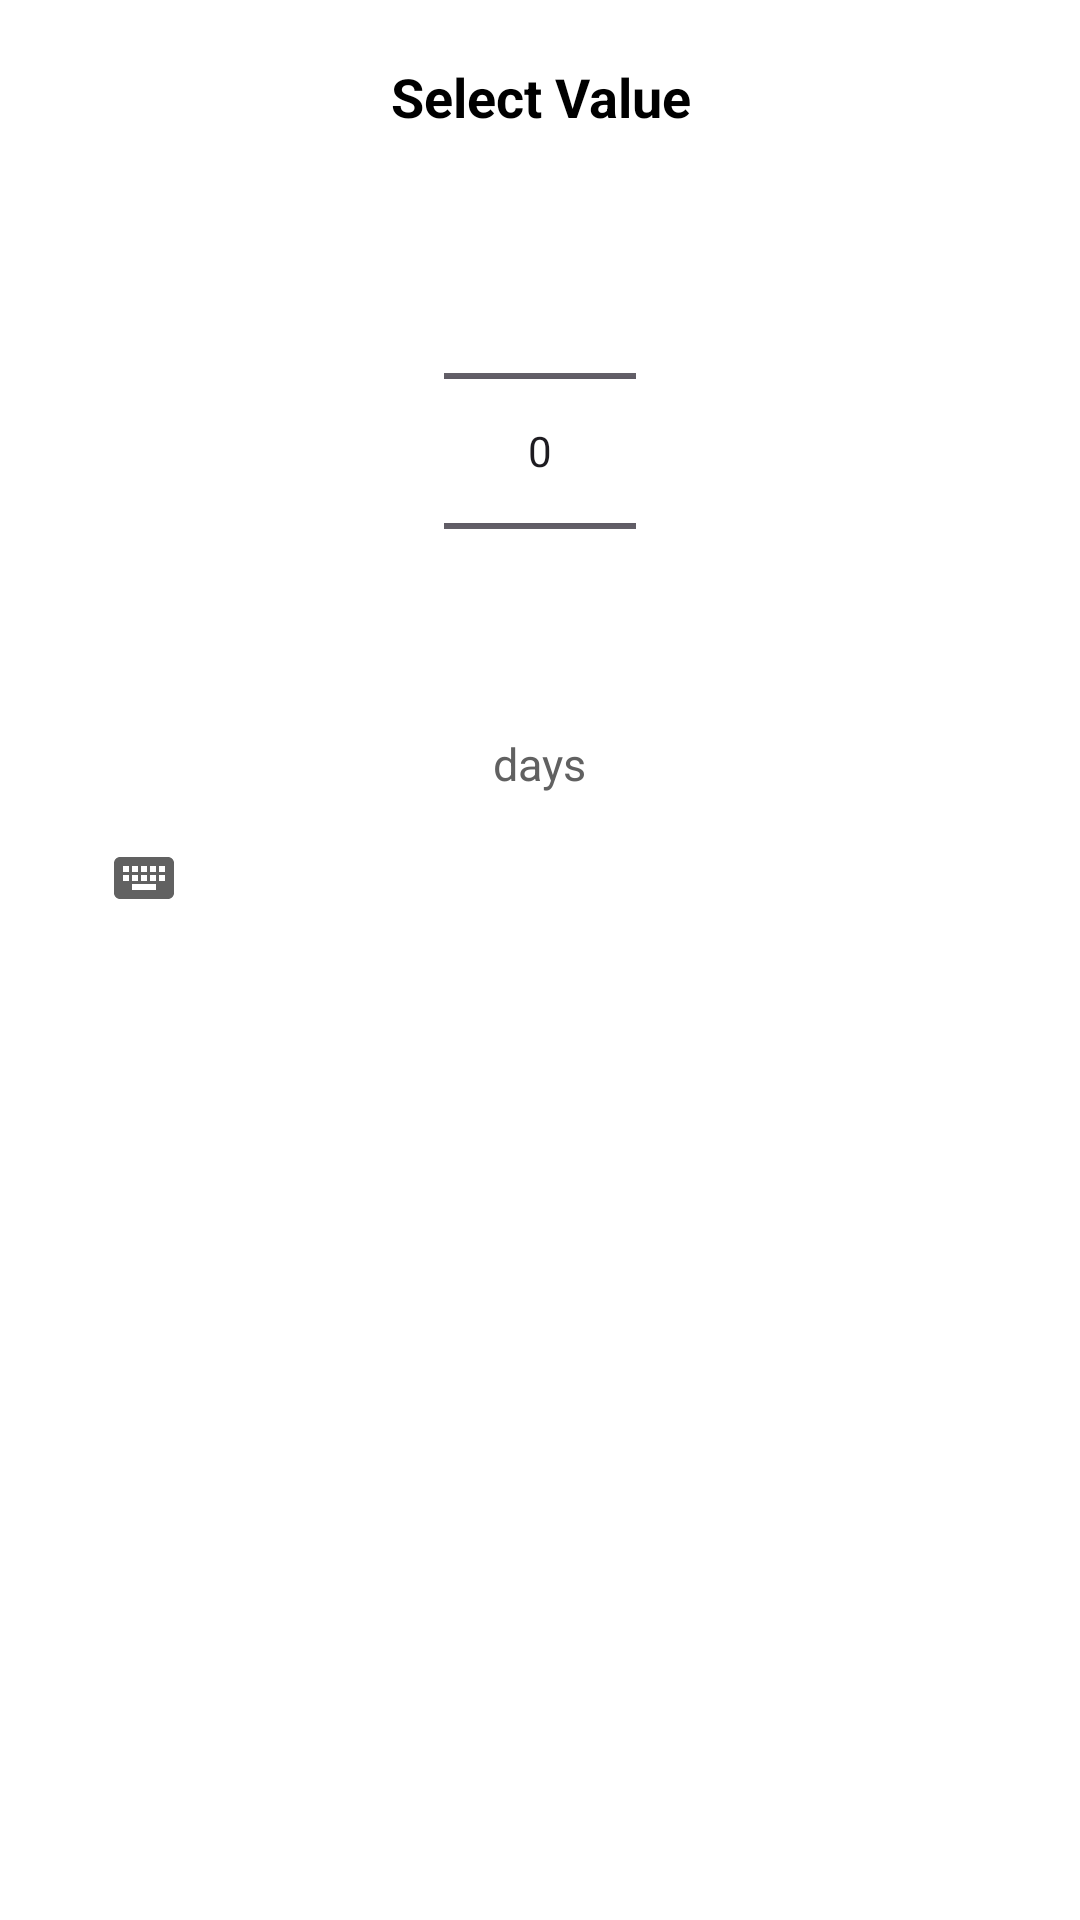

Where to tap for icons on this 1080px×1920px app screen, as (x,y):
Toggle Input Mode: (144,878)
